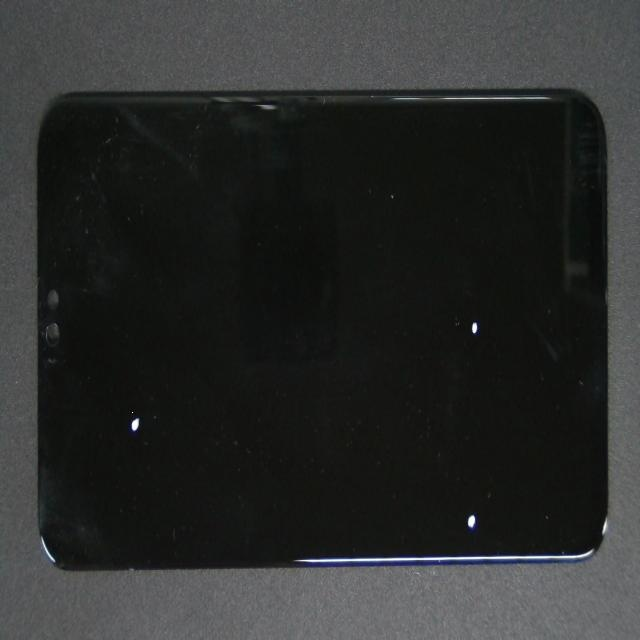stain: (229, 146, 640, 507), (240, 270, 640, 640), (53, 193, 197, 640)
